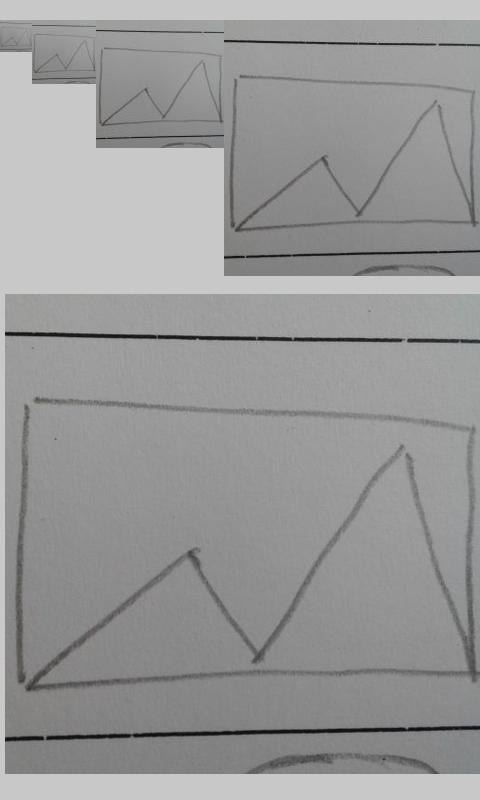image_view: (15, 395, 479, 694), (228, 67, 478, 237), (97, 46, 223, 126), (32, 33, 96, 73), (1, 26, 32, 47)
